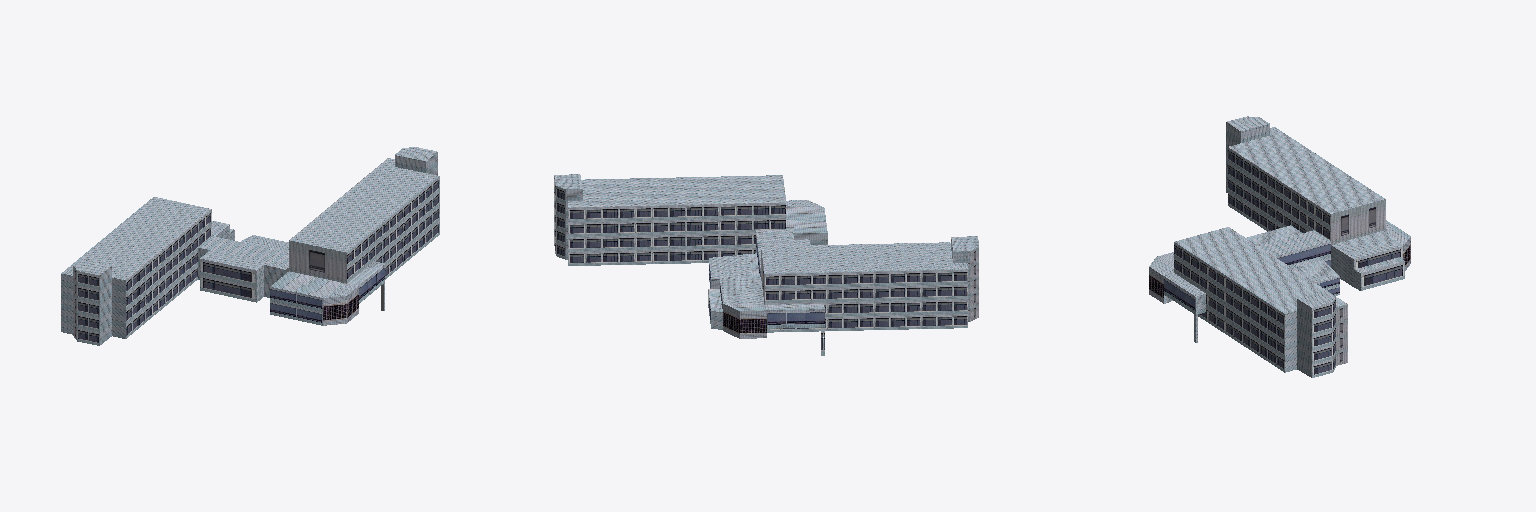
3 renders of one model, left to right at view 1: azimuth 30°, elevation 25°; view 2: azimuth 150°, elevation 25°; view 3: azimuth 270°, elevation 25°, orthographic.
Parts seen in each view (by area): view 1: VMtl1497, VMtl1732, VMtl1682, VMtl1505, VMtl1501; view 2: VMtl1732, VMtl1497, VMtl1501, VMtl1505, VMtl1682; view 3: VMtl1497, VMtl1732, VMtl1682, VMtl1505, VMtl1501.
Boxes of the visible parts, x1,y1,x2,y2 form: VMtl1497: [61, 147, 438, 344]; VMtl1732: [77, 176, 439, 345]; VMtl1682: [73, 240, 346, 339]; VMtl1505: [253, 259, 384, 325]; VMtl1501: [323, 286, 358, 325]; VMtl1732: [554, 176, 967, 355]; VMtl1497: [554, 174, 978, 329]; VMtl1501: [723, 304, 766, 338]; VMtl1505: [709, 236, 824, 328]; VMtl1682: [761, 247, 978, 321]; VMtl1497: [1149, 116, 1410, 377]; VMtl1732: [1174, 147, 1404, 377]; VMtl1682: [1331, 199, 1385, 365]; VMtl1505: [1164, 241, 1339, 314]; VMtl1501: [1149, 237, 1410, 303].
Size of the model in its own units: 147 by 31.9 by 84.34.
Materials: 6 (5 with a texture image).